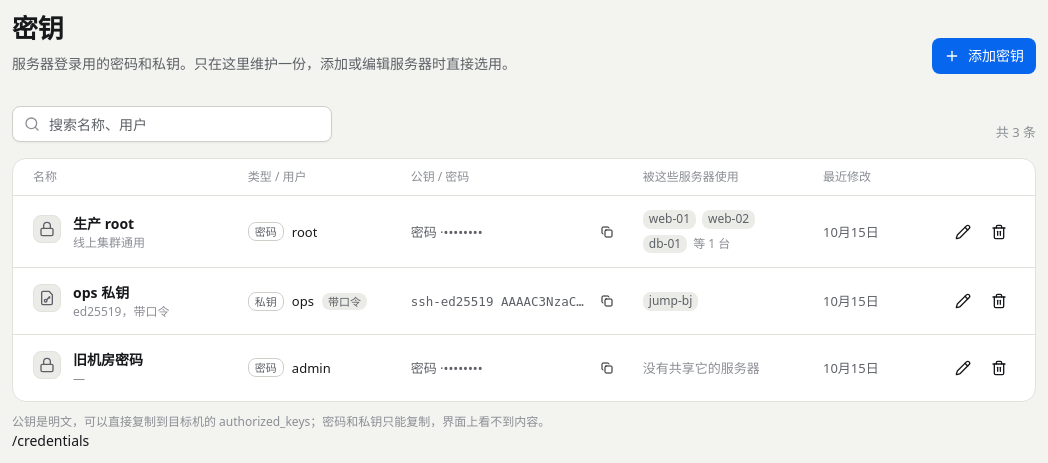
Scenario: 密钥列表 › 复制私钥类型的公钥直接复制明文，不发请求
The image size is (1048, 463).
Click the button named "复制 ops 私钥 的公钥" at (607,301), box [595,289,619,313]
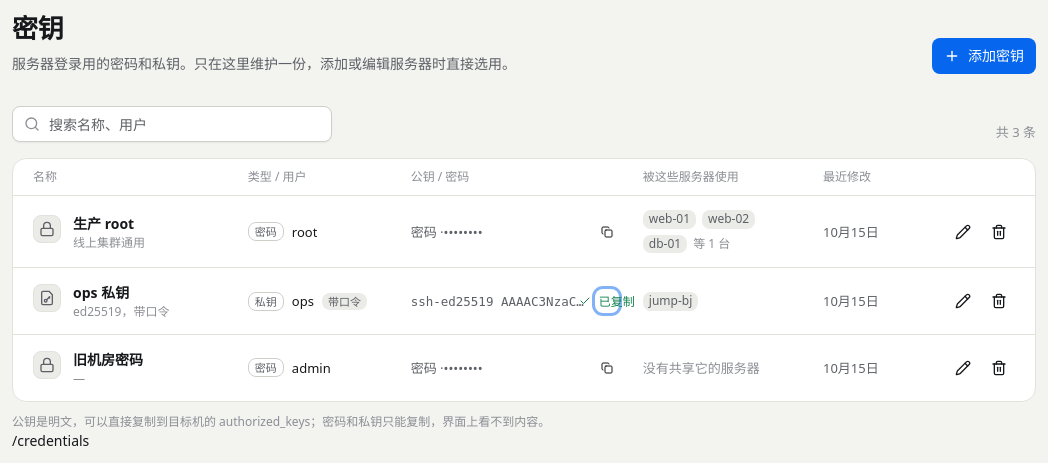
Now the button with aria-label "复制 ops 私钥 的公钥" reads "已复制", box [595,289,619,313]
